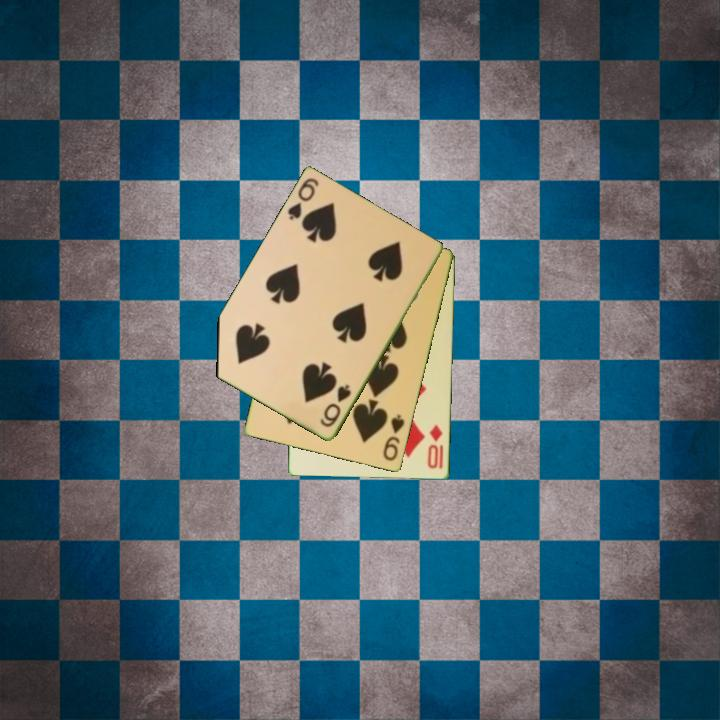10d: (424, 421, 446, 472)
6s: (316, 381, 354, 431), (284, 175, 322, 224)
9s: (380, 411, 408, 464)
